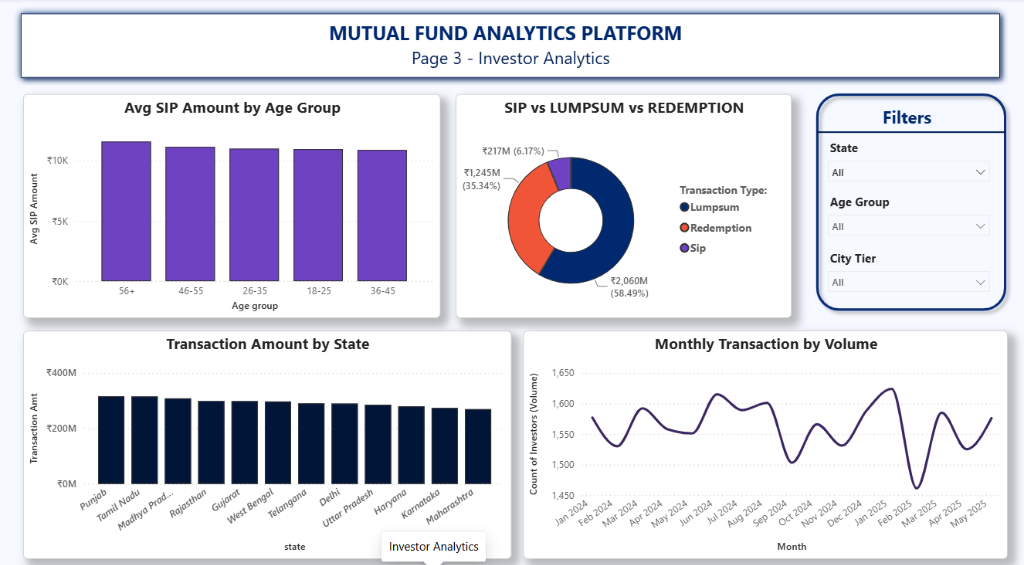

The page's visual inventory and layout, read from the dashboard file:
{"tool":"powerbi","page":{"name":"Investor Analytics","canvas":[1280,720],"ordinal":2},"visuals":[{"type":"shape","box":[1011,109.8,255.8,289.5],"z":0},{"type":"slicer","fields":{"Values":["08_investor_transactions.state"]},"box":[1024.3,171.3,223.2,65.1],"z":1000},{"type":"slicer","fields":{"Values":["08_investor_transactions.age_group"]},"box":[1024.3,238.9,223.2,65.1],"z":2000},{"type":"slicer","fields":{"Values":["08_investor_transactions.city_tier"]},"box":[1024.3,308.8,223.2,65.1],"z":3000},{"type":"clusteredColumnChart","title":"Transaction Amount by State","fields":{"Category":["08_investor_transactions.state"],"Y":["Sum(08_investor_transactions.amount_inr)"]},"box":[29,414.5,610.1,285.5],"z":4000},{"type":"donutChart","title":"SIP vs LUMPSUM vs REDEMPTION","fields":{"Category":["08_investor_transactions.transaction_type"],"Y":["Sum(08_investor_transactions.amount_inr)"]},"box":[569.6,118.8,420.3,279.7],"z":5000},{"type":"clusteredColumnChart","title":"Avg SIP Amount by Age Group","fields":{"Category":["08_investor_transactions.age_group"],"Y":["_Measures.Avg SIP Amount"]},"box":[29,118.8,521.7,279.7],"z":6000},{"type":"lineChart","title":"Monthly Transaction by Volume","fields":{"Category":["Calender.Year-Month"],"Y":["Count(08_investor_transactions.investor_id)"]},"box":[653.6,414.5,605.8,285.5],"z":7000},{"type":"shape","title":"industry","box":[17.4,10.1,1242,98.6],"z":8000},{"type":"textbox","box":[29,21.7,1218.8,87],"z":9000},{"type":"textbox","box":[1024.6,127.5,218.8,43.5],"z":10000},{"type":"shape","box":[1020.6,159.3,236,15.7],"z":11000}]}

Visuals, with their boxes in screenshot pixels (x1, y1, x2, y2), scaled from the page's 1280x720 canvas onto the 1024x565 screenshot:
shape: [809, 86, 1013, 313]
slicer - 08_investor_transactions.state: [819, 134, 998, 186]
slicer - 08_investor_transactions.age_group: [819, 187, 998, 239]
slicer - 08_investor_transactions.city_tier: [819, 242, 998, 293]
"Transaction Amount by State" clusteredColumnChart: [23, 325, 511, 549]
"SIP vs LUMPSUM vs REDEMPTION" donutChart: [456, 93, 792, 313]
"Avg SIP Amount by Age Group" clusteredColumnChart: [23, 93, 441, 313]
"Monthly Transaction by Volume" lineChart: [523, 325, 1008, 549]
"industry" shape: [14, 8, 1008, 85]
textbox: [23, 17, 998, 85]
textbox: [820, 100, 995, 134]
shape: [816, 125, 1005, 137]
